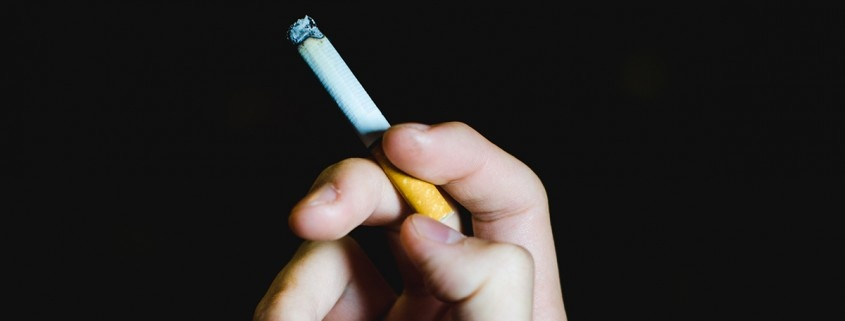sigaretta: (278, 7, 454, 242)
